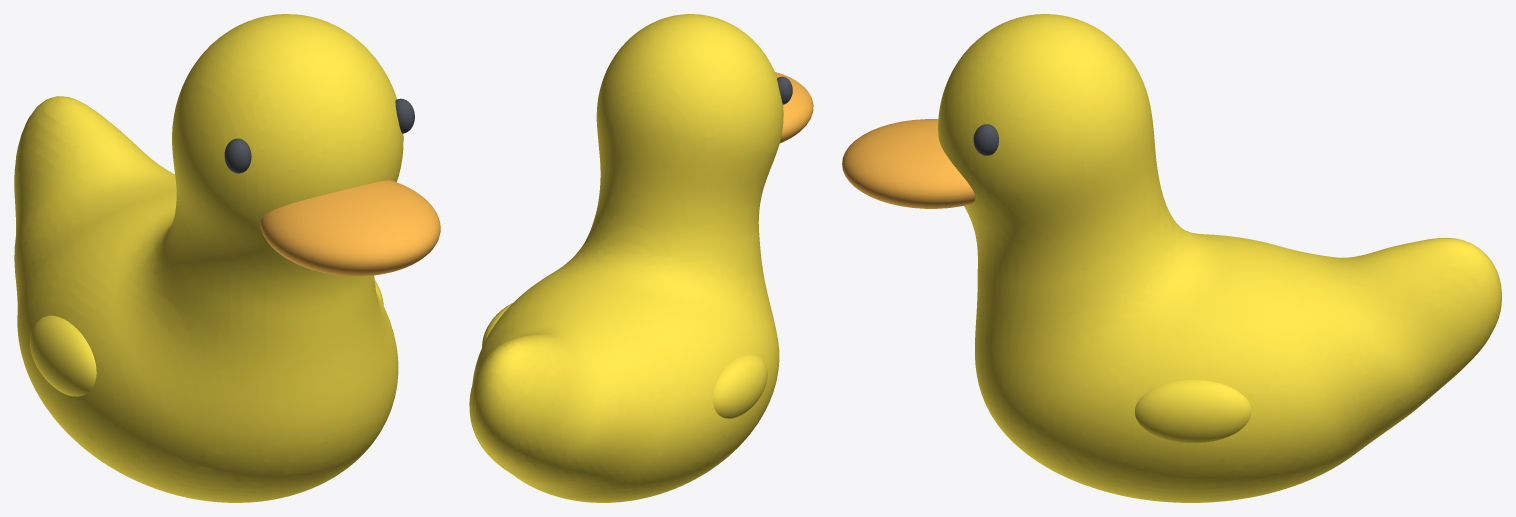
File: duck_05_small_wings.glb
3 views of the same model, side by side, from view 1: azimuth 30°, elevation 25°; view 2: azimuth 150°, elevation 25°; view 3: azimuth 270°, elevation 25° (orthographic). The views are drawn at different scales.
Parts seen in each view (by area): view 1: Body, Beak, Wing_Left, Eye_Left, Eye_Right; view 2: Body, Wing_Left, Beak; view 3: Body, Beak, Wing_Right.
Part boxes in pixels (x1,y1,x2,y2): Body: (14, 14, 403, 502); Beak: (260, 180, 440, 276); Wing_Left: (30, 315, 96, 396); Eye_Left: (224, 138, 251, 173); Eye_Right: (395, 98, 414, 133); Body: (469, 14, 783, 502); Wing_Left: (713, 353, 767, 418); Beak: (775, 72, 813, 143); Body: (938, 14, 1501, 502); Beak: (842, 119, 975, 208); Wing_Right: (1135, 380, 1251, 443).
Size of the model in its own units: 0.9 by 1.36 by 1.76.
